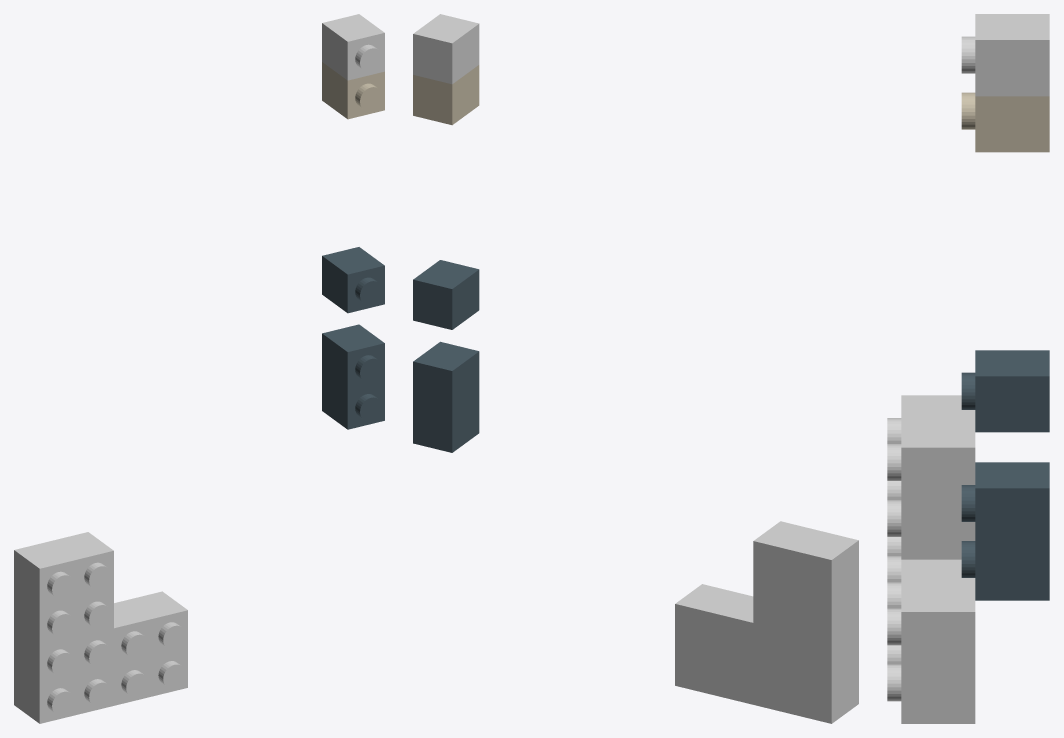
Rendered from current.glb.
The picture shows the model from 3 angles, left to right: view 1: azimuth 30°, elevation 25°; view 2: azimuth 150°, elevation 25°; view 3: azimuth 270°, elevation 25°; orthographic projection. The views are drawn at different scales.
Visible parts, largest first — view 1: world; view 2: world; view 3: world.
Boxes of the visible parts, x1=… form: world: x1=14, y1=14, x2=384, y2=723; world: x1=413, y1=14, x2=858, y2=723; world: x1=887, y1=14, x2=1049, y2=723.
Size of the model in its own units: 80 by 120 by 21.
